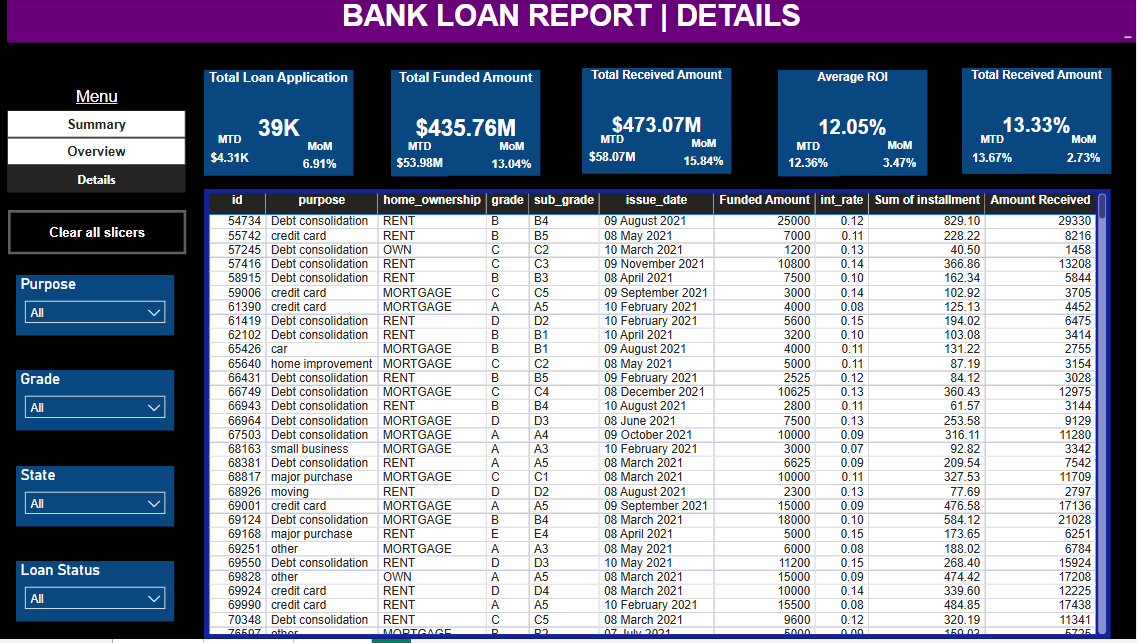

This screenshot's page, from the dashboard's own definition file:
{"tool":"powerbi","page":{"name":"Details","canvas":[1280,720],"ordinal":2},"visuals":[{"type":"textbox","title":"BANK LOAN REPORT | DETAILS","box":[10.1,0,1269.9,49.3],"z":0},{"type":"card","title":"Total Loan Application","fields":{"Values":["1_Measures.Total Loan Applications"]},"box":[231.8,79.9,167.6,119.2],"z":1000},{"type":"card","title":"MTD","fields":{"Values":["1_Measures.MTD"]},"box":[231.8,158.6,57.4,38.2],"z":2000},{"type":"card","title":"MoM","fields":{"Values":["1_Measures.MoM Loan Application"]},"box":[337.4,158.3,48.7,39],"z":3000},{"type":"card","title":"Total Funded Amount","fields":{"Values":["1_Measures.Total Funded Amt"]},"box":[442.1,79.9,167.6,119.2],"z":4000},{"type":"card","title":"MTD","fields":{"Values":["1_Measures.Funded MTD"]},"box":[443.2,155.2,61.9,38.2],"z":5000},{"type":"card","title":"MoM","fields":{"Values":["1_Measures.Mom Funded Application"]},"box":[545.6,158.6,64.1,38.2],"z":6000},{"type":"card","title":"Total Received Amount","fields":{"Values":["1_Measures.Total Amt Received"]},"box":[657,77.6,167.6,119.2],"z":7000},{"type":"card","title":"MTD","fields":{"Values":["1_Measures.Received MTD"]},"box":[657,155.2,67.5,38.2],"z":8000},{"type":"card","title":"MoM","fields":{"Values":["1_Measures.Received MOM"]},"box":[762.8,155.2,61.9,38.2],"z":9000},{"type":"card","title":"Average ROI","fields":{"Values":["1_Measures.Avg ROI"]},"box":[877.5,79.9,167.6,119.2],"z":10000},{"type":"card","title":"Total Received Amount","fields":{"Values":["1_Measures.Avg DTI"]},"box":[1084.5,77.6,167.6,119.2],"z":11000},{"type":"card","title":"MTD","fields":{"Values":["1_Measures.Avg ROI MTD"]},"box":[877.5,158.6,67.5,40.5],"z":12000},{"type":"card","title":"MoM","fields":{"Values":["1_Measures.Avg ROI MOM"]},"box":[983.4,158,62,38.9],"z":13000},{"type":"card","title":"MTD","fields":{"Values":["1_Measures.Avg DTI MTD"]},"box":[1084.5,150.8,67.5,46.1],"z":14000},{"type":"card","title":"MoM","fields":{"Values":["1_Measures.Avg dti MoM"]},"box":[1190.2,150.8,61.9,46.1],"z":15000},{"type":"slicer","title":"Purpose","fields":{"Values":["financial_loan.purpose"]},"box":[20.2,310.5,177.8,67.5],"z":16000},{"type":"slicer","title":"Grade","fields":{"Values":["financial_loan.grade"]},"box":[20.2,417.8,177.8,67.5],"z":17000},{"type":"slicer","title":"State","fields":{"Values":["financial_loan.address_state"]},"box":[20.2,525,177.8,67.5],"z":18000},{"type":"slicer","title":"Loan Status","fields":{"Values":["financial_loan.loan_status"]},"box":[20.2,632.2,177.8,67.5],"z":19000},{"type":"actionButton","box":[10.9,237,200.6,49.8],"z":20000},{"type":"tableEx","fields":{"Values":["financial_loan.id","financial_loan.purpose","financial_loan.home_ownership","financial_loan.grade","financial_loan.sub_grade","financial_loan.issue_date","financial_loan.loan_amount","financial_loan.int_rate","Sum(financial_loan.installment)","financial_loan.total_payment"]},"box":[232.2,213.9,1019.9,505.7],"z":21000},{"type":"pageNavigator","title":"Menu","box":[9.7,98.5,201.8,119.1],"z":22000}]}

Visuals, with their boxes in screenshot pixels (x1, y1, x2, y2), scaled from the page's 1280x720 canvas onto the 1137x643 screenshot:
"BANK LOAN REPORT | DETAILS" textbox: 9/0/1136/44
"Total Loan Application" card: 206/71/355/178
"MTD" card: 206/142/257/176
"MoM" card: 300/141/343/176
"Total Funded Amount" card: 393/71/542/178
"MTD" card: 394/139/449/173
"MoM" card: 485/142/542/176
"Total Received Amount" card: 584/69/732/176
"MTD" card: 584/139/644/173
"MoM" card: 678/139/733/173
"Average ROI" card: 779/71/928/178
"Total Received Amount" card: 963/69/1112/176
"MTD" card: 779/142/839/178
"MoM" card: 874/141/929/176
"MTD" card: 963/135/1023/176
"MoM" card: 1057/135/1112/176
"Purpose" slicer: 18/277/176/338
"Grade" slicer: 18/373/176/433
"State" slicer: 18/469/176/529
"Loan Status" slicer: 18/565/176/625
actionButton: 10/212/188/256
tableEx - financial_loan.id x financial_loan.purpose: 206/191/1112/642
"Menu" pageNavigator: 9/88/188/194
